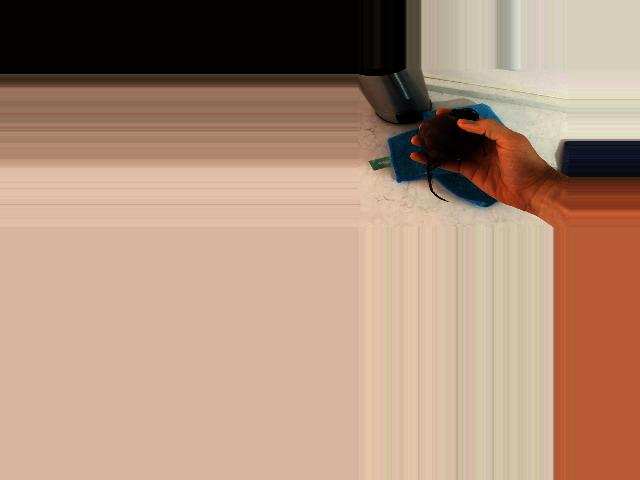beet: (418, 108, 484, 202)
